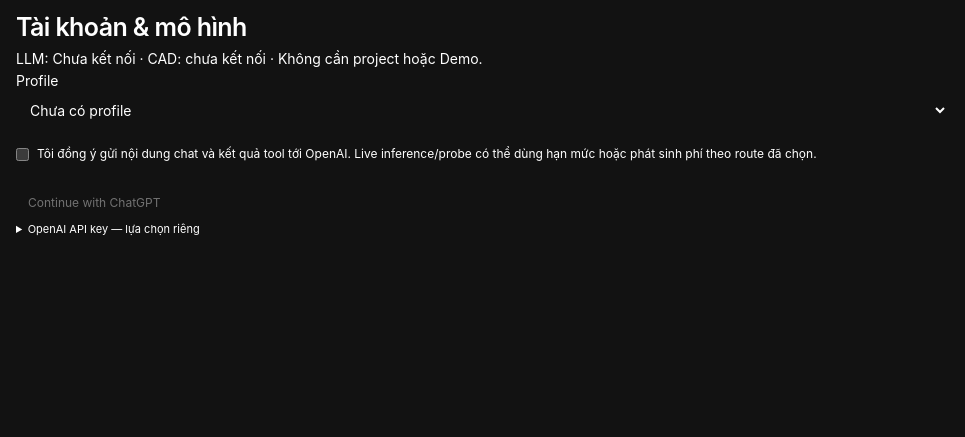
Test case: clears a one-shot global API key even when the native vault fails
Click the checkbox at [22, 154], box [16,148,29,161]
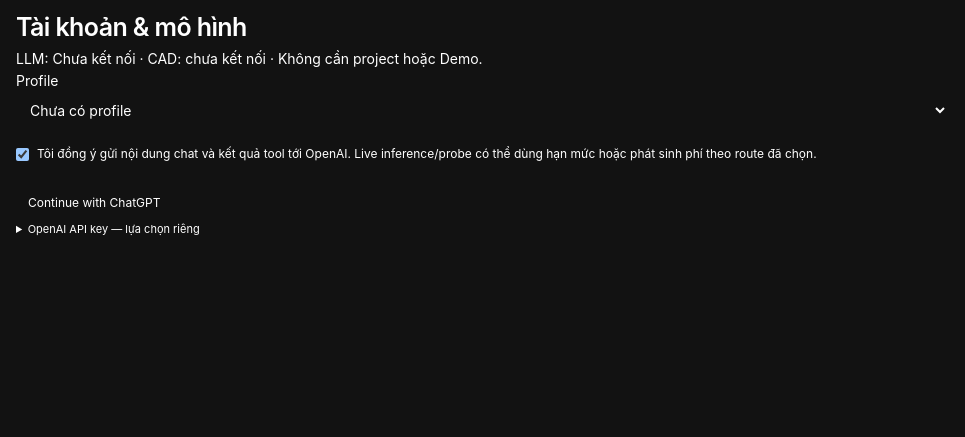
Click the heading "OpenAI API key — lựa chọn riêng" at [114, 229], box [28,222,200,236]
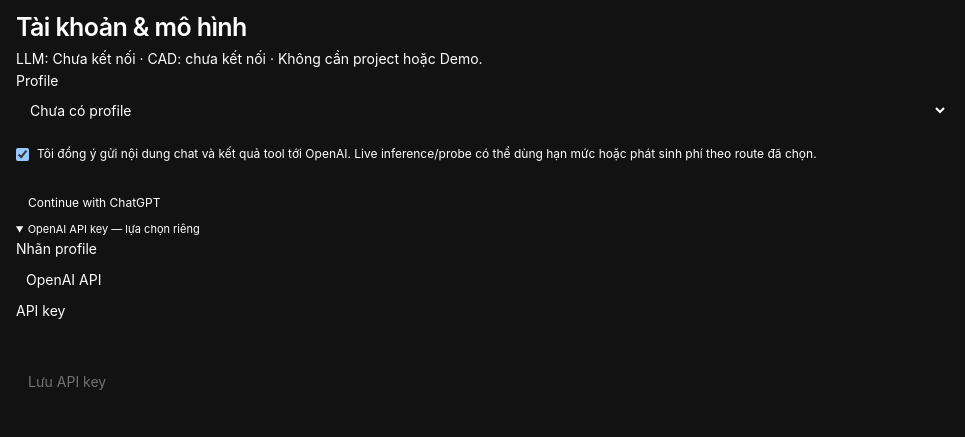
Type "fixture-key" into the password field named "API key độc lập" at [482, 341], box [16,321,948,362]
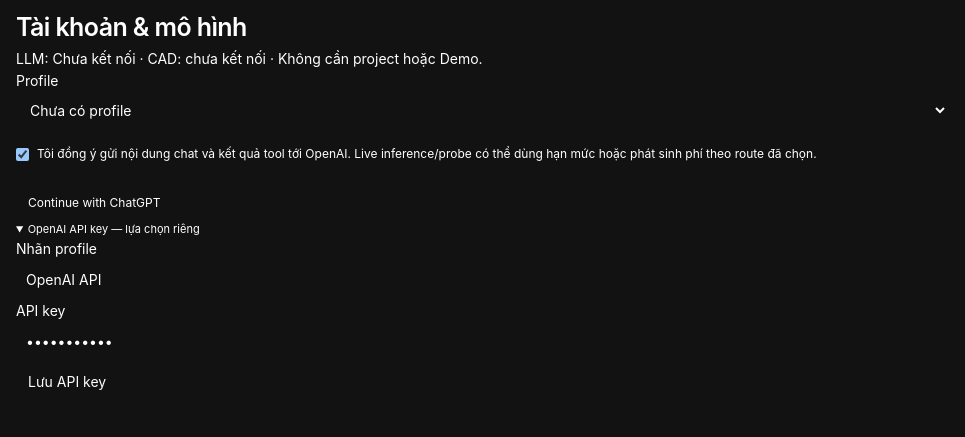
Click the button "Lưu API key" at [67, 381], box [16,362,118,401]
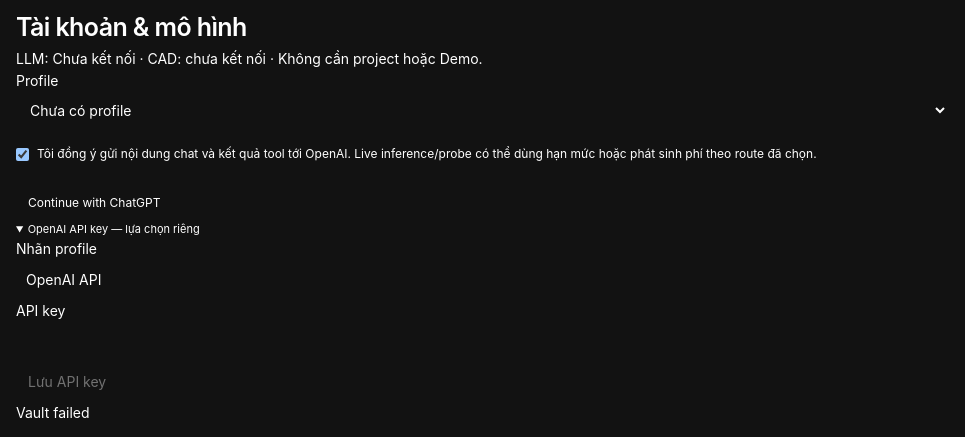
Check: the password field named "API key độc lập" is empty, box [16,321,948,362]
Check: the message reads "Vault failed", box [16,404,90,421]
